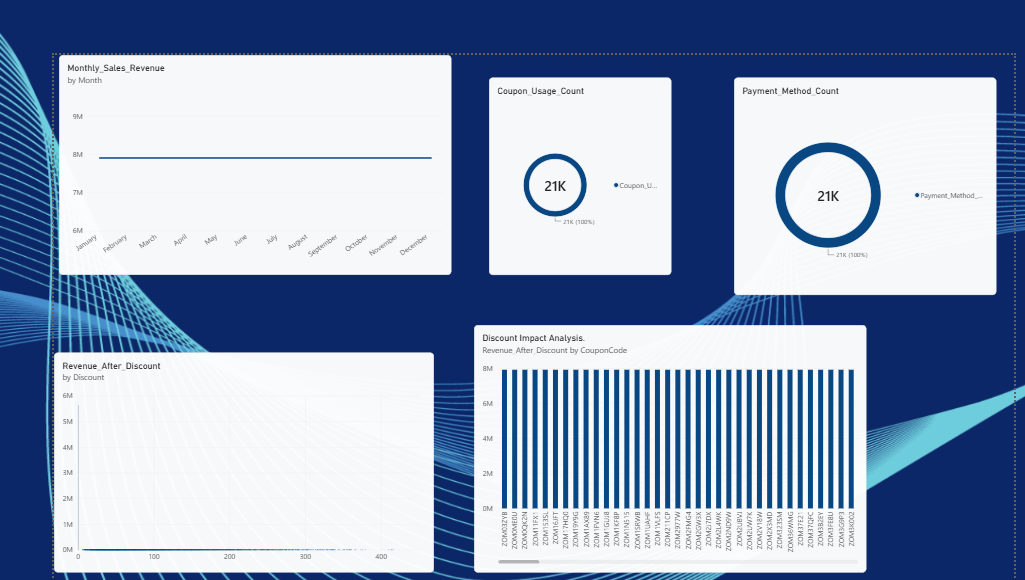

The page's visual inventory and layout, read from the dashboard file:
{"tool":"powerbi","page":{"name":"Sales Dashboard","canvas":[1920,1080],"ordinal":4},"visuals":[{"type":"lineChart","fields":{"Category":["orders_features.OrderDate.Variation.Date Hierarchy.Month"],"Y":["cities.Monthly_Sales_Revenue"]},"box":[10,0,785,440],"z":0},{"type":"donutChart","fields":{"Y":["cities.Coupon_Usage_Count"]},"box":[870,45,365,395],"z":1000},{"type":"clusteredColumnChart","fields":{"Category":["orders.Discount"],"Y":["cities.Revenue_After_Discount"]},"box":[0,595,760,440],"z":2000},{"type":"donutChart","fields":{"Y":["cities.Payment_Method_Count"]},"box":[1360,45,525,435],"z":3000},{"type":"clusteredColumnChart","title":"Discount Impact Analysis.","fields":{"Category":["promotions.CouponCode"],"Y":["cities.Revenue_After_Discount"]},"box":[840,540,785,495],"z":4000}]}

Visuals, with their boxes in screenshot pixels (x1, y1, x2, y2), scaled from the page's 1920x1080 canvas onto the 1025x580 screenshot:
lineChart - orders_features.OrderDate.Variation.Date Hierarchy.Month x cities.Monthly_Sales_Revenue: bbox(5, 0, 424, 236)
donutChart - cities.Coupon_Usage_Count: bbox(464, 24, 659, 236)
clusteredColumnChart - orders.Discount x cities.Revenue_After_Discount: bbox(0, 320, 406, 556)
donutChart - cities.Payment_Method_Count: bbox(726, 24, 1006, 258)
"Discount Impact Analysis." clusteredColumnChart: bbox(448, 290, 868, 556)
